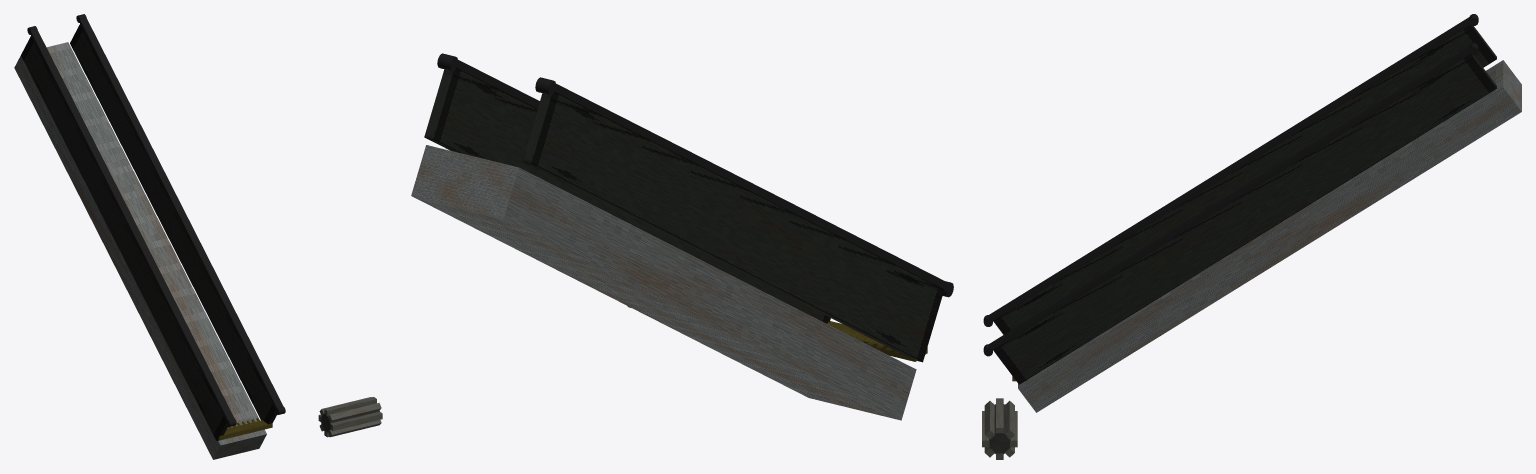
The model's file is escalator.glb.
The picture shows the model from 3 angles, left to right: view 1: azimuth 30°, elevation 25°; view 2: azimuth 150°, elevation 25°; view 3: azimuth 270°, elevation 25°; orthographic projection. The views are drawn at different scales.
Visible parts, largest first — view 1: lane, teeth; view 2: lane; view 3: lane, teeth.
Boxes of the visible parts, x1,y1,x2,y2 form: lane: [14, 14, 285, 459]; teeth: [318, 397, 382, 437]; lane: [411, 53, 953, 420]; lane: [983, 14, 1521, 412]; teeth: [982, 398, 1017, 459].
Size of the model in its own units: 4.59 by 8.71 by 11.56.
6 materials, 5 textured.
